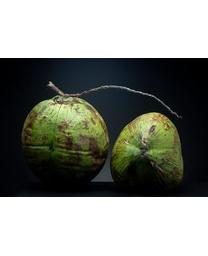coconut: (17, 81, 110, 193), (106, 109, 189, 197)
